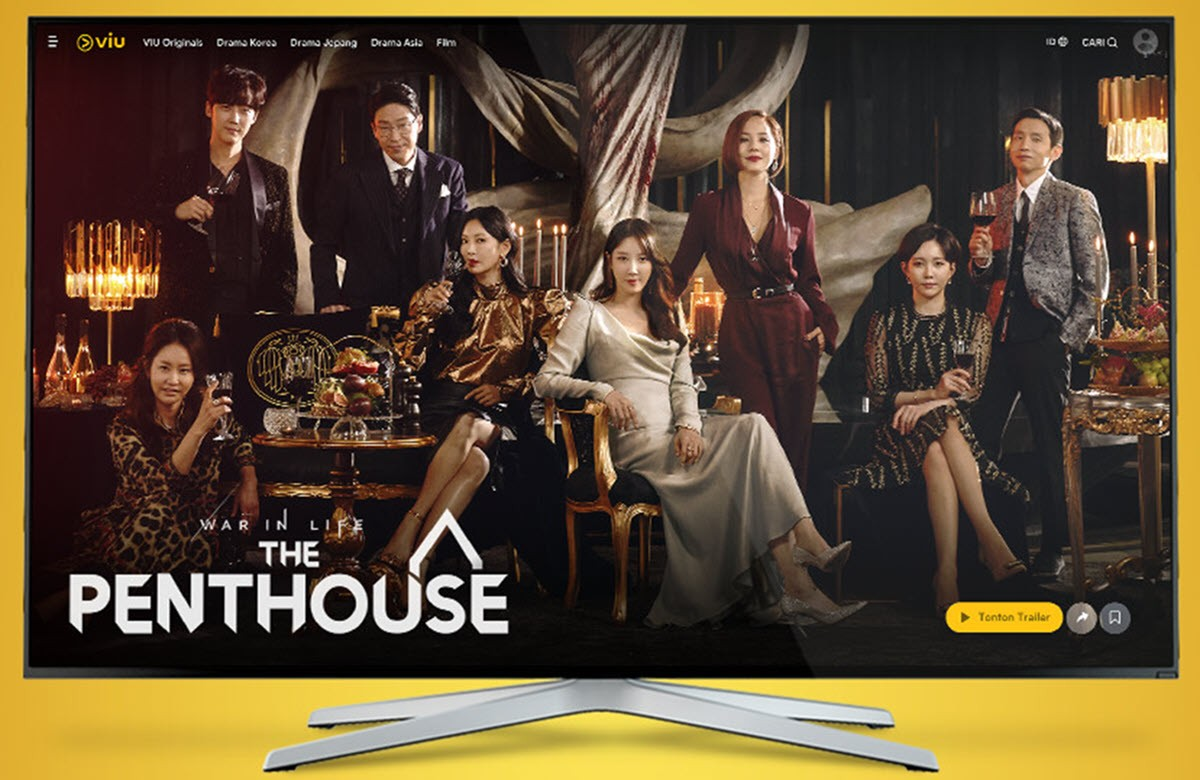tv: (15, 18, 1195, 713)
